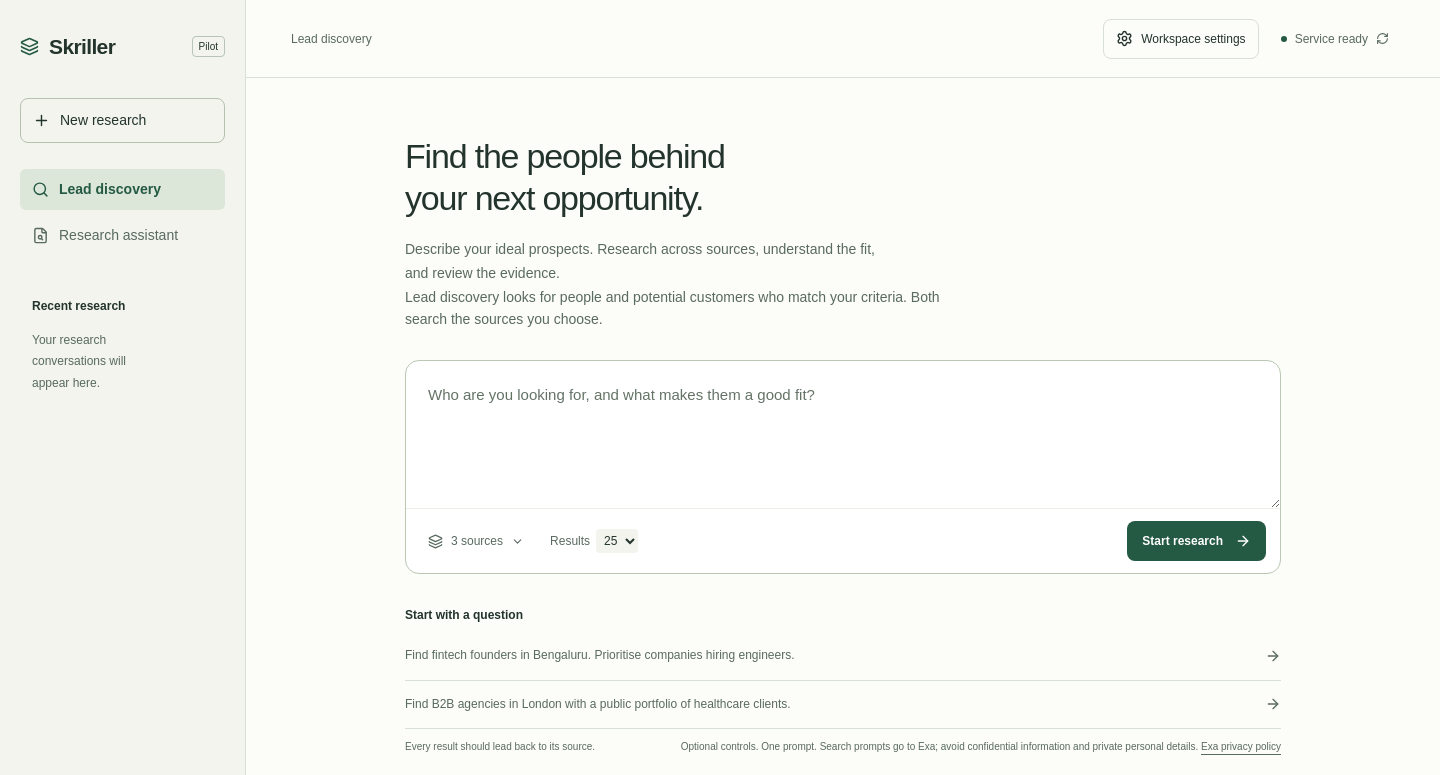
Test: research workbench › keeps indexed Reddit enabled when no direct Reddit account is connected
Click the button "3 sources": {"x": 476, "y": 541} [420,526,532,556]
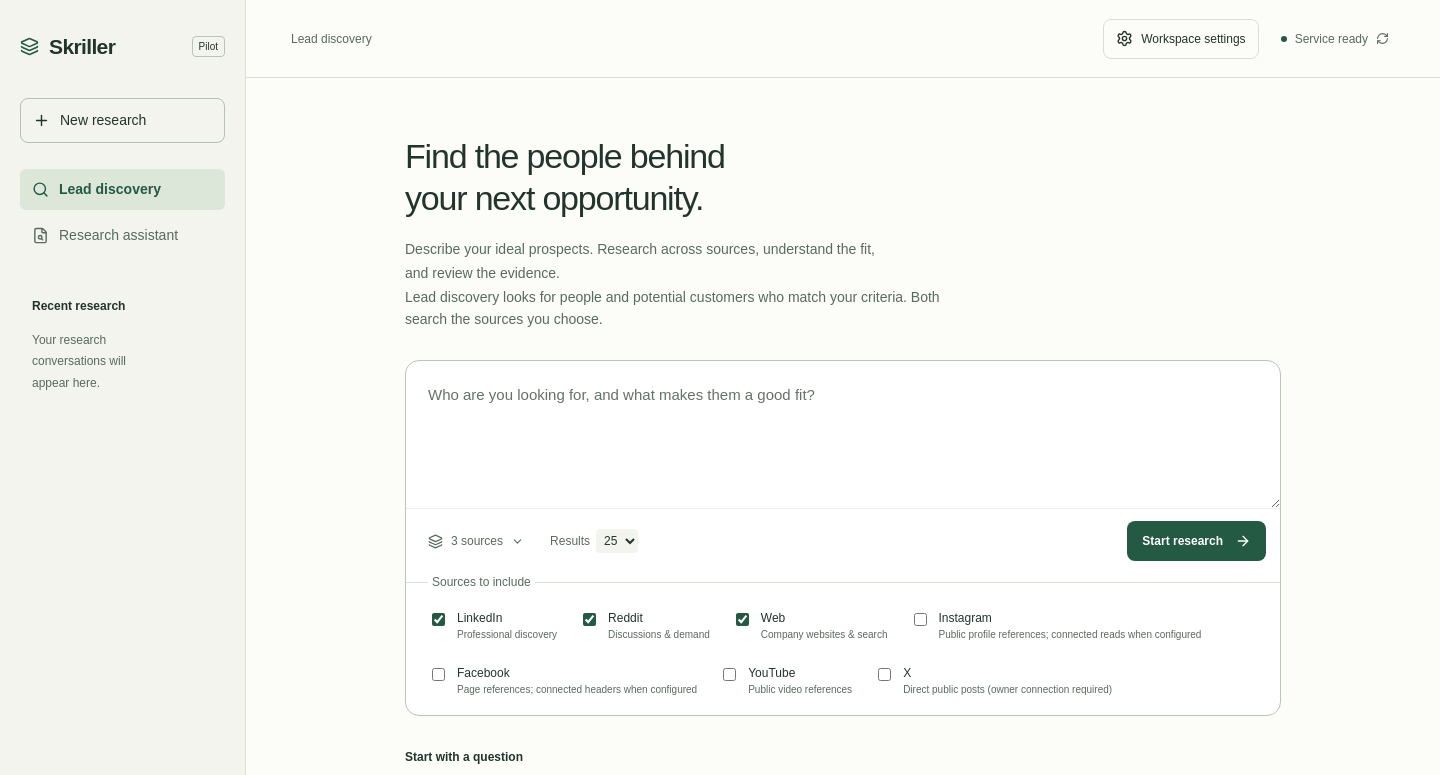
expect the checkbox labelled "Reddit Discussions & demand" is enabled: met, box [583,613,596,626]
expect the checkbox labelled "Reddit Discussions & demand" is checked: met, box [583,613,596,626]
